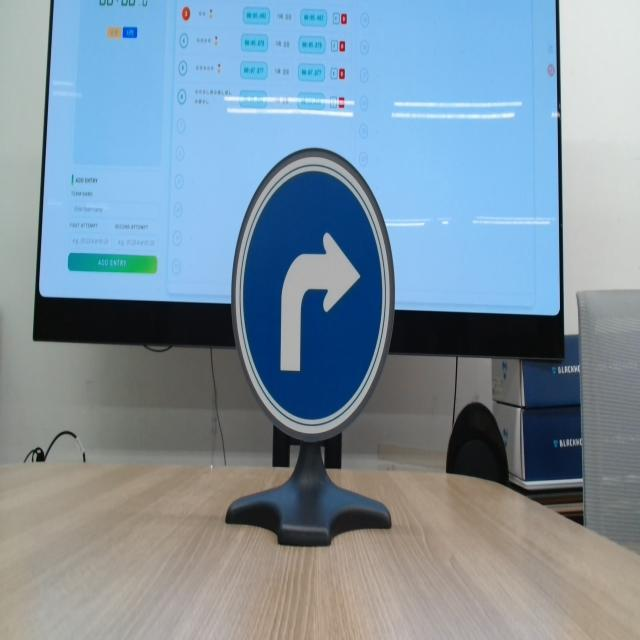right_dierection: (222, 137, 406, 450)
